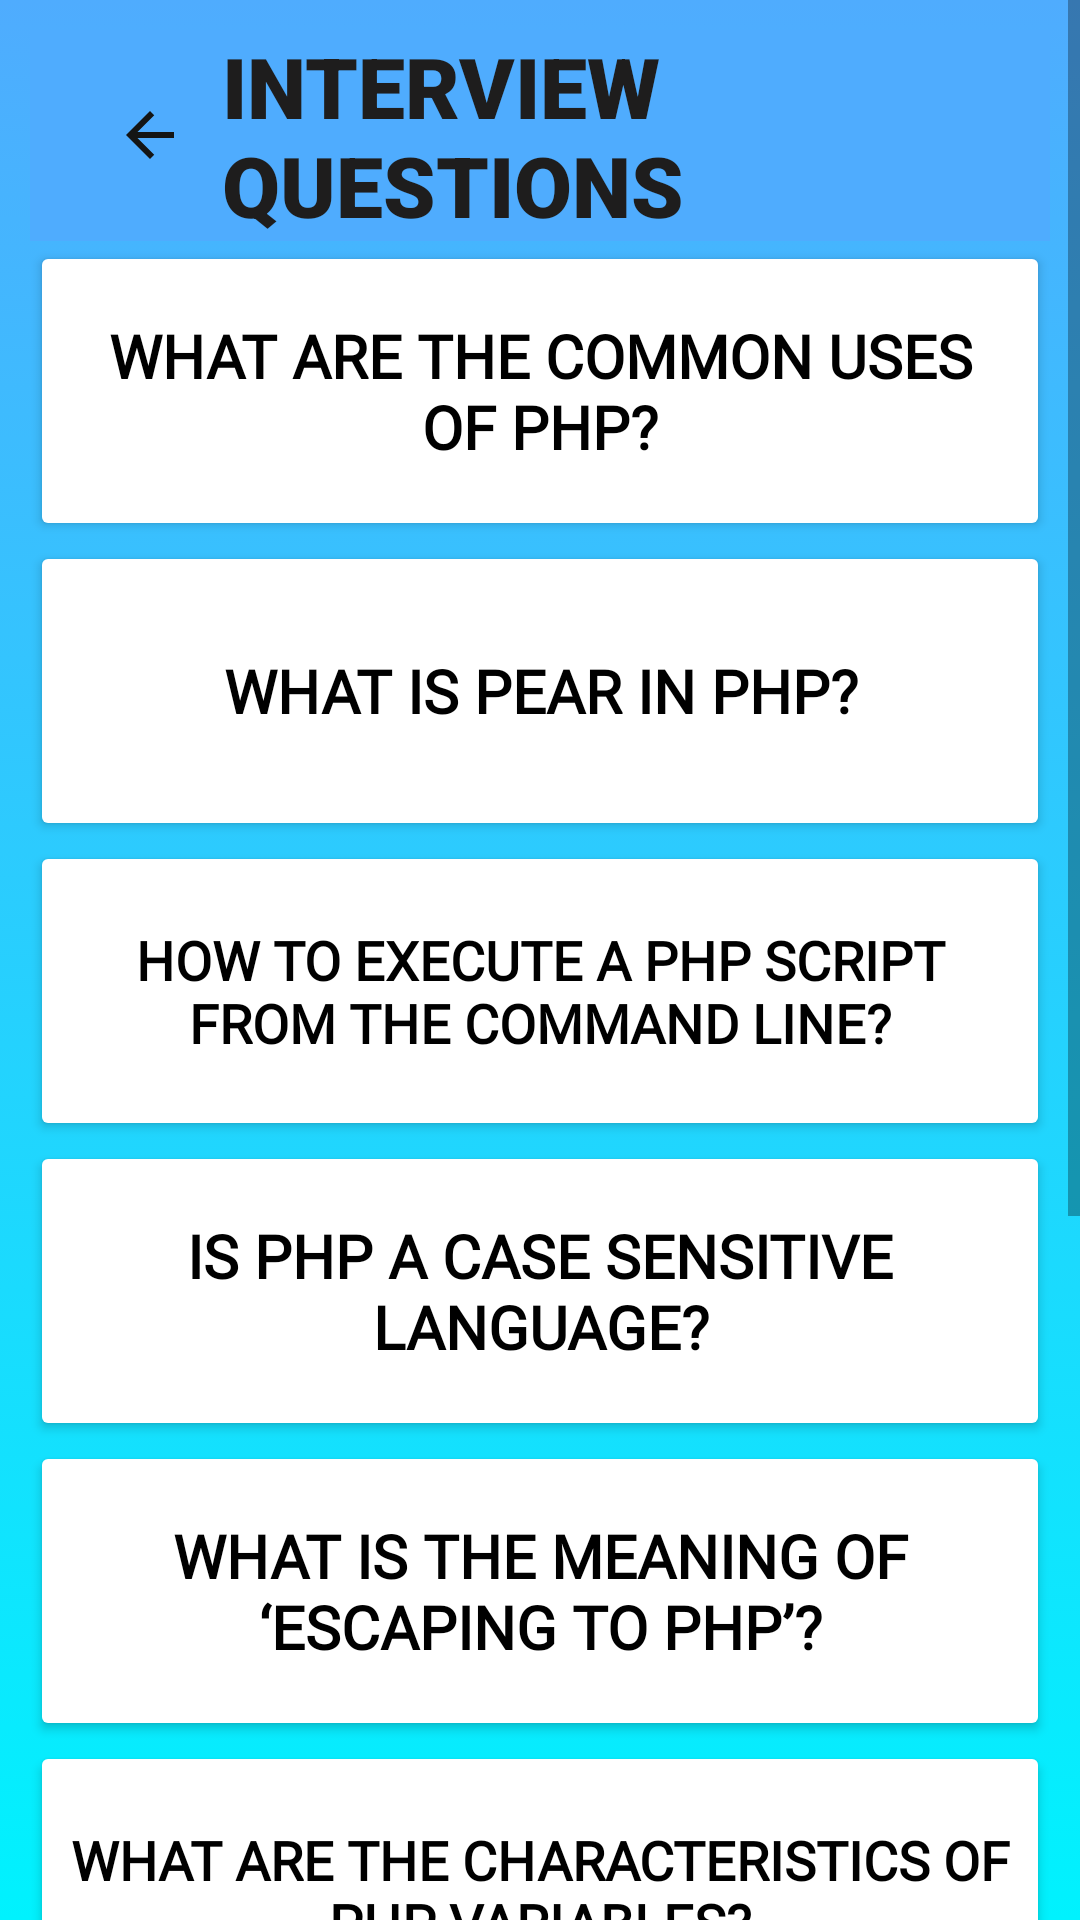

Icons on this 1080 x 1920 Android screen, each with its box as (left=x1, top=y1, right=x2, bottom=y2):
back: (left=126, top=111, right=174, bottom=159)
